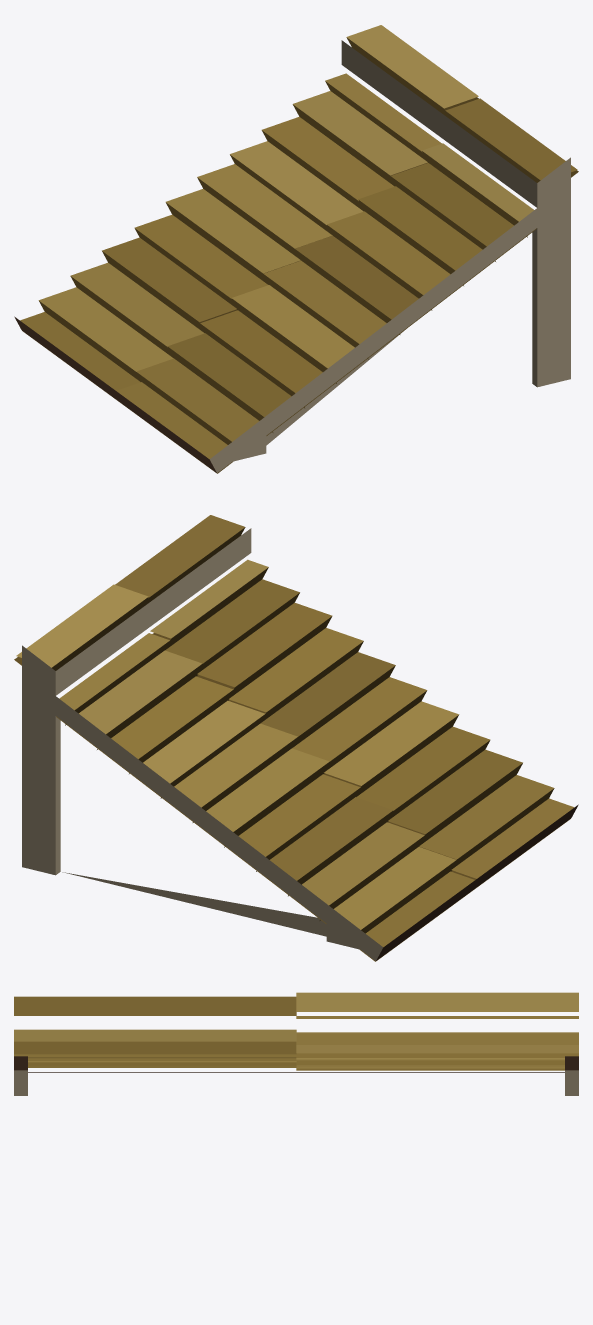
The model's file is roof-thatch.glb.
The picture shows the model from 3 angles, top to bottom: view 1: azimuth 30°, elevation 25°; view 2: azimuth 150°, elevation 25°; view 3: azimuth 270°, elevation 25°; orthographic projection. The views are drawn at different scales.
Visible parts, largest first — view 1: roof-thatch; view 2: roof-thatch; view 3: roof-thatch.
Part boxes in pixels (left/top/right/bottom): roof-thatch: left=14, top=25, right=578, bottom=473; roof-thatch: left=14, top=515, right=578, bottom=961; roof-thatch: left=14, top=992, right=578, bottom=1095.
Bounding box in the file's own units: 1.09 × 0.6501 × 1.
